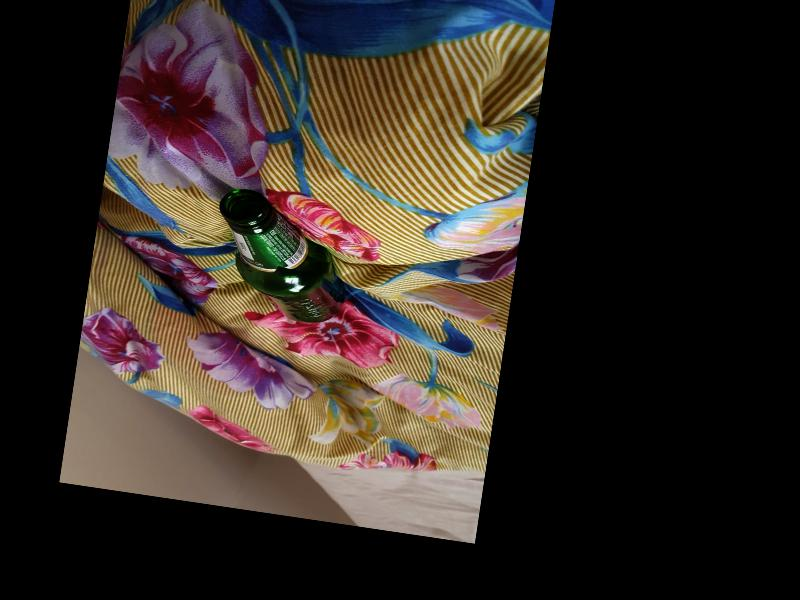Beer: (203, 184, 358, 327)
